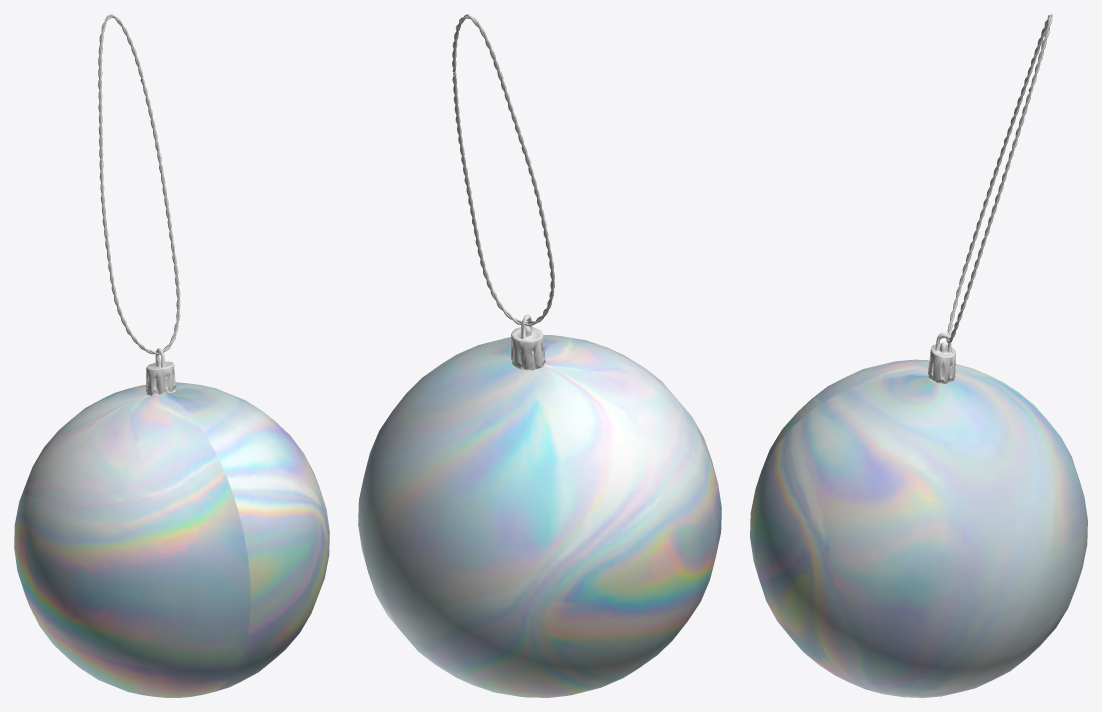
Rendered from Iridescent_Ball2.glb.
3 views of the same model, side by side, from view 1: azimuth 30°, elevation 25°; view 2: azimuth 150°, elevation 25°; view 3: azimuth 270°, elevation 25° (orthographic). The views are drawn at different scales.
Parts seen in each view (by area): view 1: Sphere, GN Instance; view 2: Sphere, GN Instance; view 3: Sphere, GN Instance.
Boxes of the visible parts, x1=… form: Sphere: x1=14, y1=348, x2=329, y2=697; GN Instance: x1=98, y1=14, x2=180, y2=354; Sphere: x1=358, y1=314, x2=721, y2=697; GN Instance: x1=452, y1=14, x2=554, y2=326; Sphere: x1=750, y1=332, x2=1087, y2=697; GN Instance: x1=946, y1=14, x2=1052, y2=343.
Size of the model in its own units: 0.055 by 0.1197 by 0.0549.
3 materials, 1 textured.
